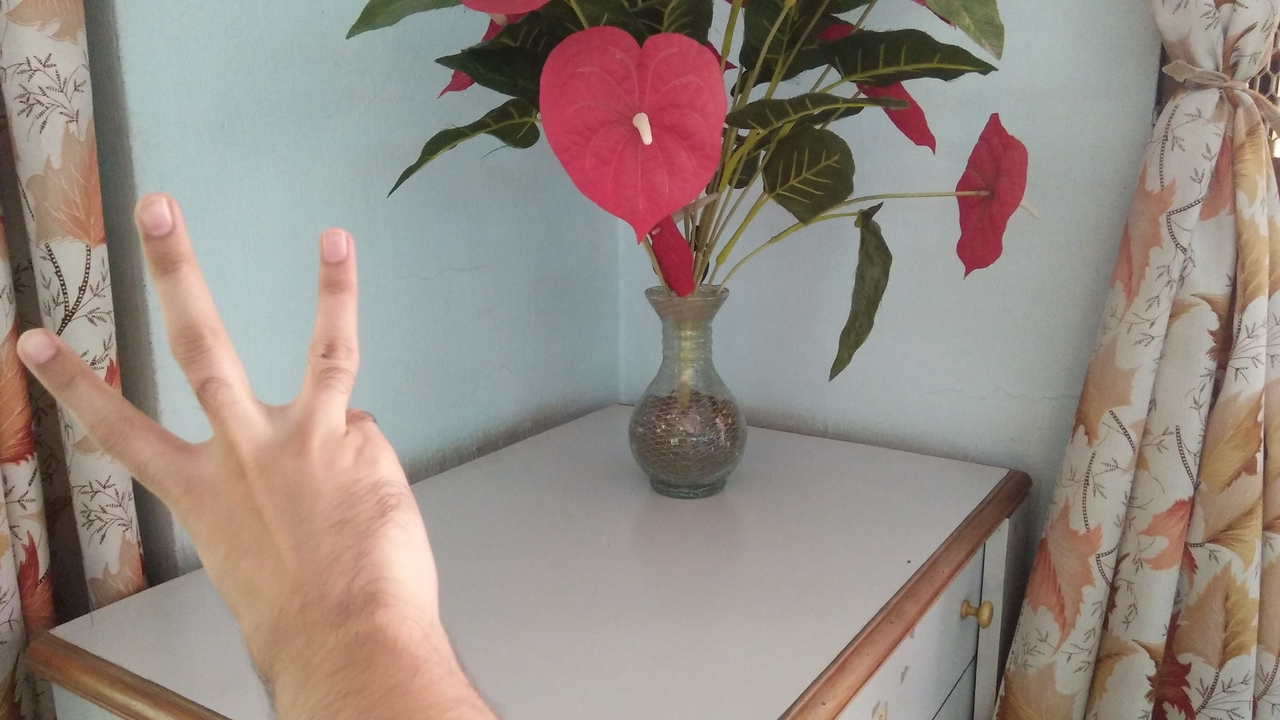fingertip: (128, 186, 186, 246), (2, 322, 66, 372), (304, 216, 358, 270)
